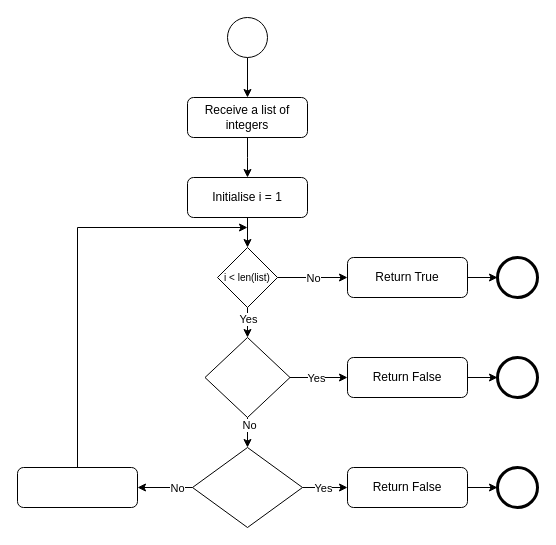
Some shapes in this 556 by 545 pixel diagram are drawn without their labels. Each missing label, with the box of its shape:
i > 1 and list[i]==l[i-1]==l[i-2]: (192, 446, 302, 528)
Increase i by 1: (16, 466, 138, 508)
list[i] <= list[i - 1]: (204, 336, 290, 418)
